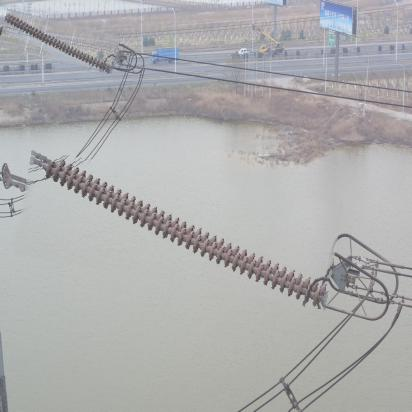insulator: (18, 164, 341, 298), (1, 16, 119, 68)
